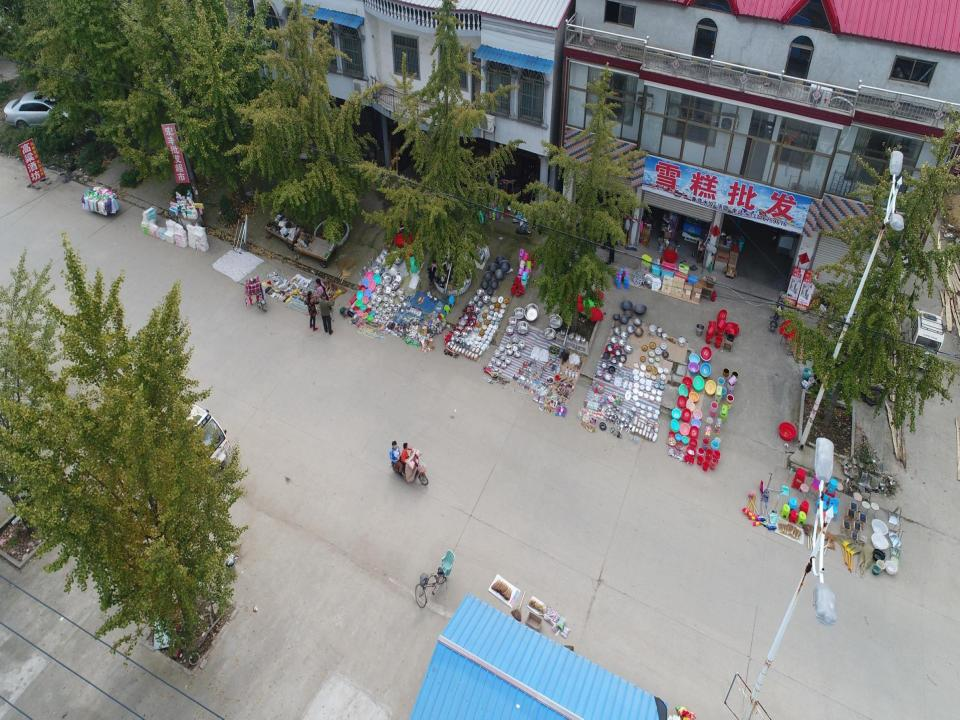car: (4, 90, 70, 132)
